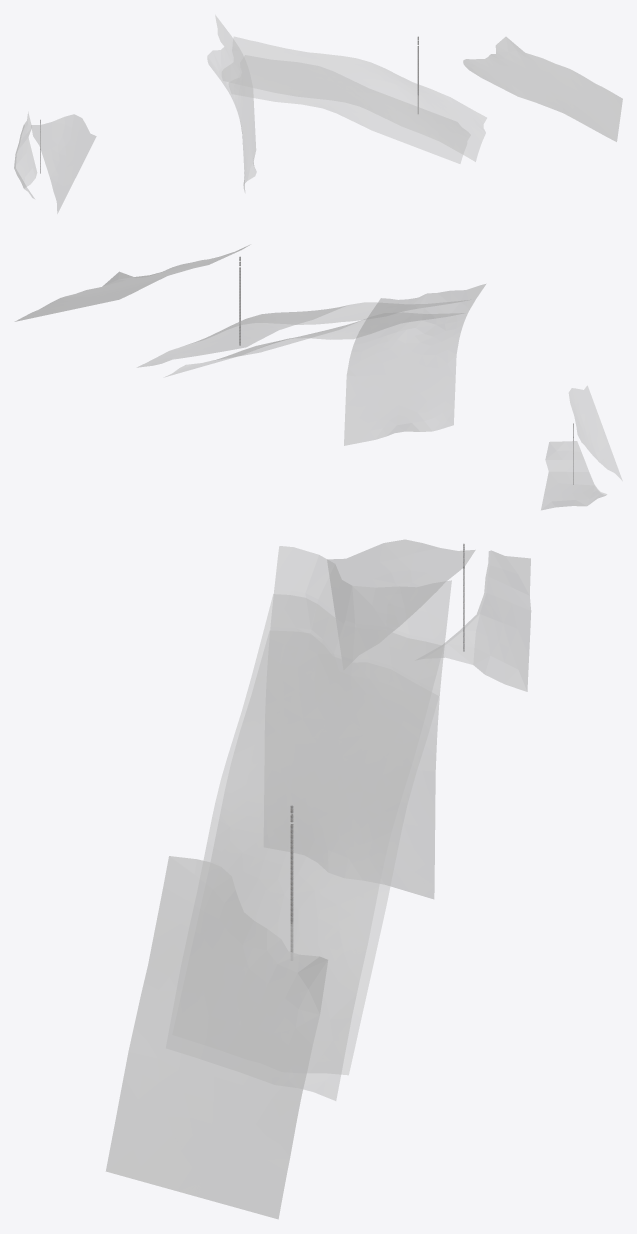
File: suidao_19.glb
The picture shows the model from 3 angles, top to bottom: view 1: azimuth 30°, elevation 25°; view 2: azimuth 150°, elevation 25°; view 3: azimuth 270°, elevation 25°; orthographic projection. The views are drawn at different scales.
Visible parts, largest first — view 1: Layer:P2Q F5 YOU 2, Layer:P2Q F5 YOU 1, Layer:T1J1 5, Layer:p3c 4, Layer:F6 11, Layer:S2H F5 ZUO 9, Layer:F4 YOU 5, Layer:detach_F5 7 1, Layer:P2Q F5 ZUO 6; view 2: Layer:S2H F5 ZUO 9, Layer:P2Q F5 YOU 2, Layer:F4 YOU 5, Layer:T1J1 5, Layer:p3c 4, Layer:P2Q F5 YOU 1, Layer:F6 11, Layer:detach_F5 7 1, Layer:P2Q F5 ZUO 6, Layer:P1L F5 ZUO 2; view 3: Layer:P2Q F5 YOU 2, Layer:P2Q F5 YOU 1, Layer:T1J1 5, Layer:p3c 4, Layer:F6 11, Layer:detach_F5 7 1, Layer:F4 YOU 5, Layer:P2Q F5 ZUO 6, Layer:S2H F5 ZUO 9.
Part boxes in pixels (x1,y1,x2,y2): Layer:P2Q F5 YOU 2: [221, 36, 486, 161]; Layer:P2Q F5 YOU 1: [228, 55, 470, 163]; Layer:T1J1 5: [463, 37, 622, 141]; Layer:p3c 4: [463, 37, 622, 141]; Layer:F6 11: [31, 114, 96, 213]; Layer:S2H F5 ZUO 9: [231, 84, 256, 192]; Layer:F4 YOU 5: [14, 112, 37, 191]; Layer:detach_F5 7 1: [207, 15, 231, 78]; Layer:P2Q F5 ZUO 6: [219, 36, 242, 91]; Layer:S2H F5 ZUO 9: [344, 320, 464, 445]; Layer:P2Q F5 YOU 2: [137, 300, 467, 367]; Layer:F4 YOU 5: [541, 441, 605, 510]; Layer:T1J1 5: [15, 245, 249, 321]; Layer:p3c 4: [17, 246, 247, 320]; Layer:P2Q F5 YOU 1: [164, 312, 463, 377]; Layer:F6 11: [568, 385, 622, 480]; Layer:detach_F5 7 1: [366, 284, 485, 319]; Layer:P2Q F5 ZUO 6: [356, 299, 475, 338]; Layer:P1L F5 ZUO 2: [353, 313, 467, 346]; Layer:P2Q F5 YOU 2: [203, 594, 443, 1100]; Layer:P2Q F5 YOU 1: [211, 631, 438, 1075]; Layer:T1J1 5: [106, 856, 327, 1219]; Layer:p3c 4: [106, 856, 327, 1218]; Layer:F6 11: [327, 539, 475, 631]; Layer:detach_F5 7 1: [274, 546, 451, 641]; Layer:F4 YOU 5: [441, 550, 531, 691]; Layer:P2Q F5 ZUO 6: [271, 590, 444, 692]; Layer:S2H F5 ZUO 9: [380, 706, 438, 899].
Bounding box in the file's own units: 4128 × 1000 × 1361.
14 materials, 2 textured.
